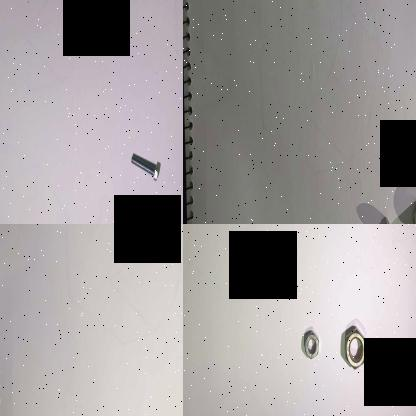Bolts: (127, 144, 162, 188)
NUTS: (335, 319, 370, 375), (297, 324, 323, 366), (379, 212, 396, 224)
